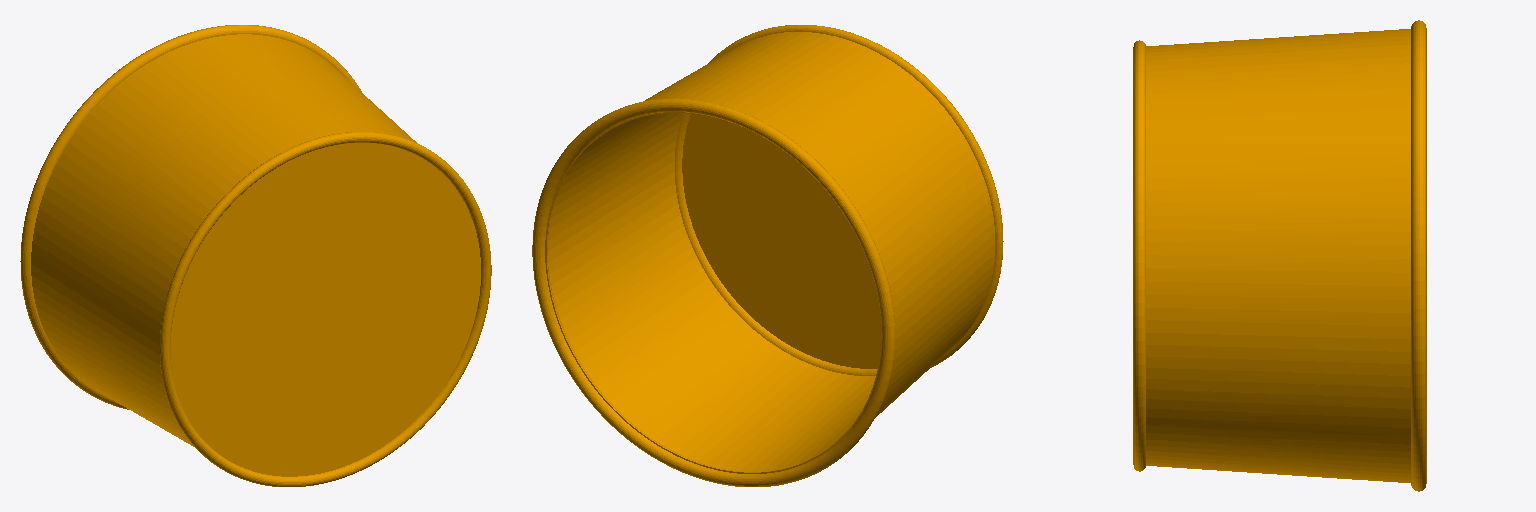
robot.urdf — bucketv02:
<?xml version="1.0" ?>
<robot name="bucketv02">

<material name="silver">
  <color rgba="0.700 0.700 0.700 1.000"/>
</material>

<link concave="yes" name="base_link">
  <inertial>
    <origin xyz="7.250133928720036e-16 4.531333705450022e-16 0.0668566064027197" rpy="0 0 0"/>
    <mass value="2.5755920603089713"/>
    <inertia ixx="0.015265971520158655" iyy="0.015265971520156938" izz="0.01952225792615186" ixy="1.656371750868862e-16" iyz="1.1056039150038028e-16" ixz="2.305859176356679e-16"/>
  </inertial>
  <visual>
    <origin xyz="0 0 0" rpy="0 0 0"/>
    <geometry>
      <mesh filename="meshes/bucket.obj" />
    </geometry>
    <material name="silver"/>
    <material/>
  </visual>
  <collision concave="yes">
    <origin xyz="0 0 0" rpy="0 0 0"/>
    <geometry>
      <mesh filename="meshes/bucket.obj"/>
    </geometry>
    <contact>
      <soft_cfm value="0.0"/>
      <soft_erp value="0.2"/>
  </contact>
  </collision>
</link>

</robot>

--- Facts derived from the render (not from the file) ---
3 views of the same robot in one strip: view 1: azimuth 30°, elevation 25°; view 2: azimuth 150°, elevation 25°; view 3: azimuth 270°, elevation 25° (orthographic).
Model bucketv02 with 1 links and 0 joints (none), rooted at base_link, posed every joint at zero.
Visible links, largest first — view 1: base_link; view 2: base_link; view 3: base_link.
Link boxes in pixels (x1,y1,x2,y2): base_link: (20,25,491,486); base_link: (532,25,1003,486); base_link: (1133,20,1426,491).
Bounding box of the posed robot: 0.2532 × 0.1575 × 0.2532 m (x, y, z).
1 mesh visuals loaded from 1 distinct referenced files (1 OBJ).